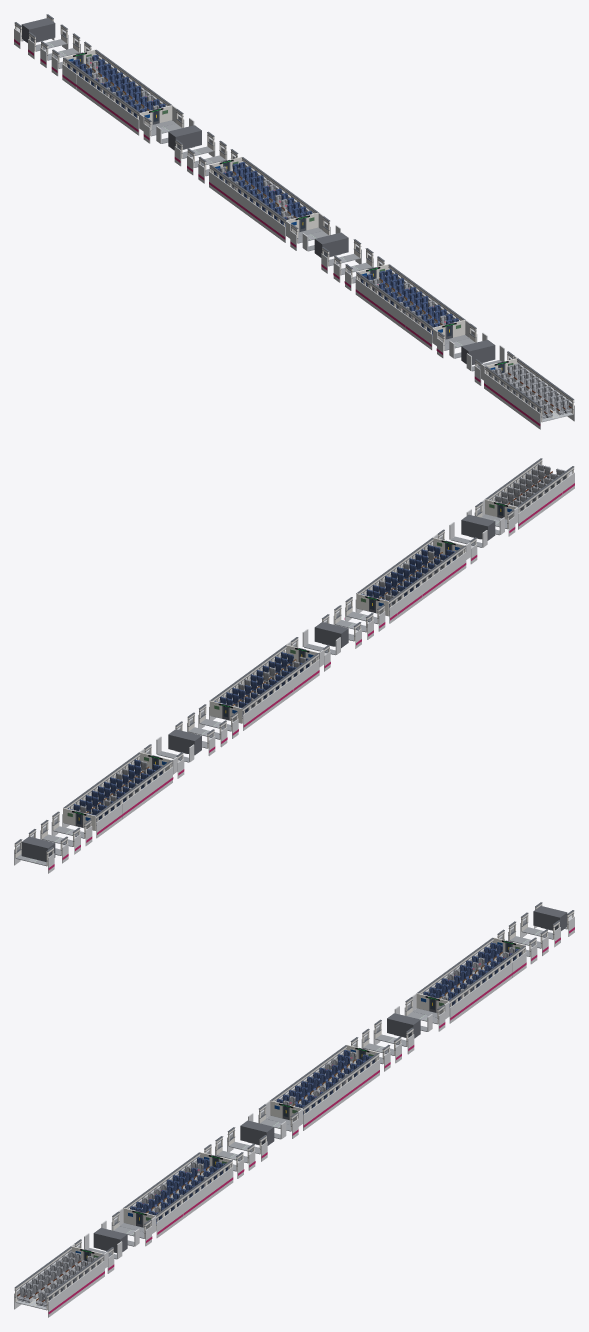
File: car_green.glb
3 views of the same model, one above another, from view 1: azimuth 30°, elevation 25°; view 2: azimuth 150°, elevation 25°; view 3: azimuth 330°, elevation 25° (orthographic).
Parts seen in each view (by area): view 1: global_st_1, global_st_2, global_st_3, global_st_0, car_st_32; view 2: global_st_0, global_st_1, global_st_2, global_st_3, car_st_50; view 3: global_st_1, global_st_2, global_st_3, global_st_0, car_st_32.
Part boxes in pixels (bbox=[...]): global_st_1: bbox=[314, 232, 348, 257]; global_st_2: bbox=[168, 125, 201, 150]; global_st_3: bbox=[21, 18, 55, 42]; global_st_0: bbox=[461, 340, 495, 364]; car_st_32: bbox=[174, 131, 215, 166]; global_st_0: bbox=[461, 514, 495, 540]; global_st_1: bbox=[314, 622, 348, 647]; global_st_2: bbox=[168, 729, 201, 755]; global_st_3: bbox=[21, 836, 55, 861]; car_st_50: bbox=[51, 811, 92, 845]; global_st_1: bbox=[240, 1120, 274, 1145]; global_st_2: bbox=[387, 1013, 420, 1038]; global_st_3: bbox=[533, 906, 567, 930]; global_st_0: bbox=[93, 1228, 127, 1252]; car_st_32: bbox=[373, 1019, 414, 1054].
Bounding box in the file's own units: 3.39 × 2.07 × 89.34.
35 materials, 7 textured.
